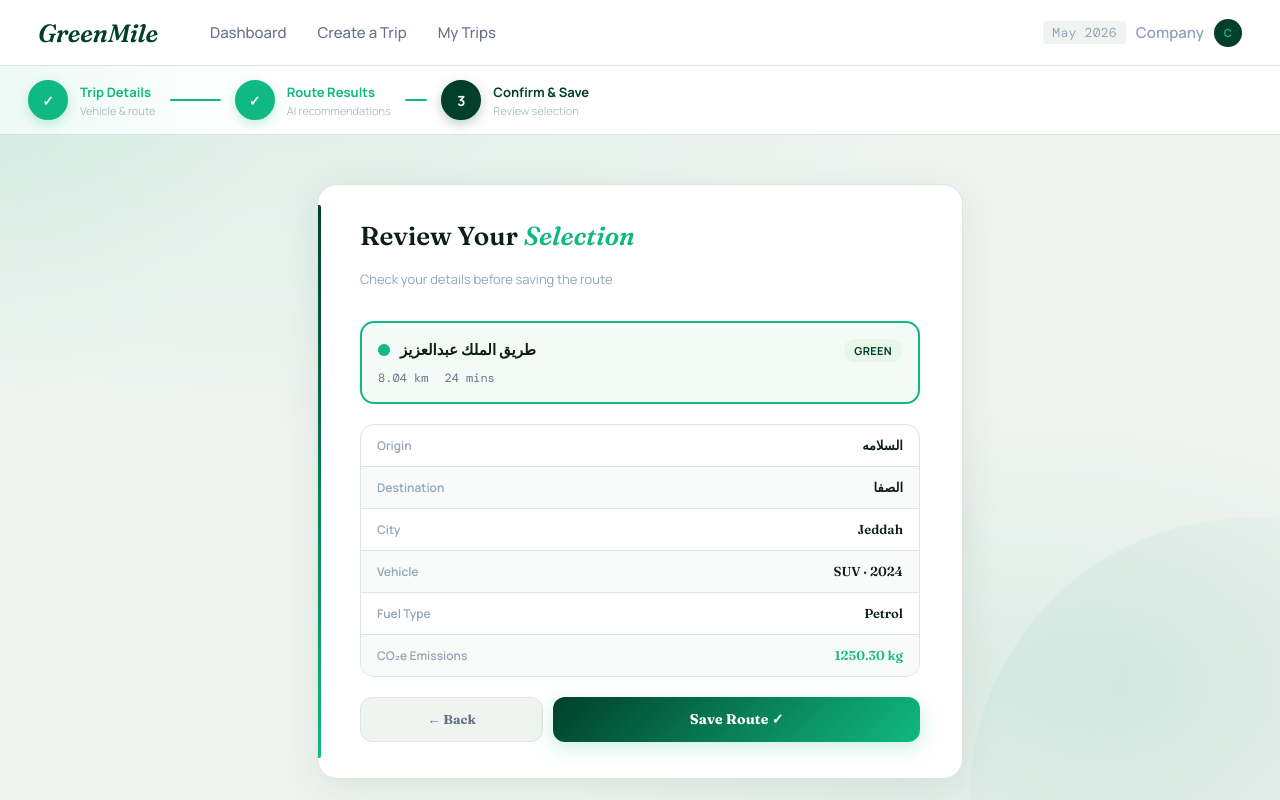
Test: ConfirmScreen — Save: Happy Path › shows Saving... while in progress
Click the button "Save Route ✓". click: (737, 719)
box: [553, 697, 920, 742]
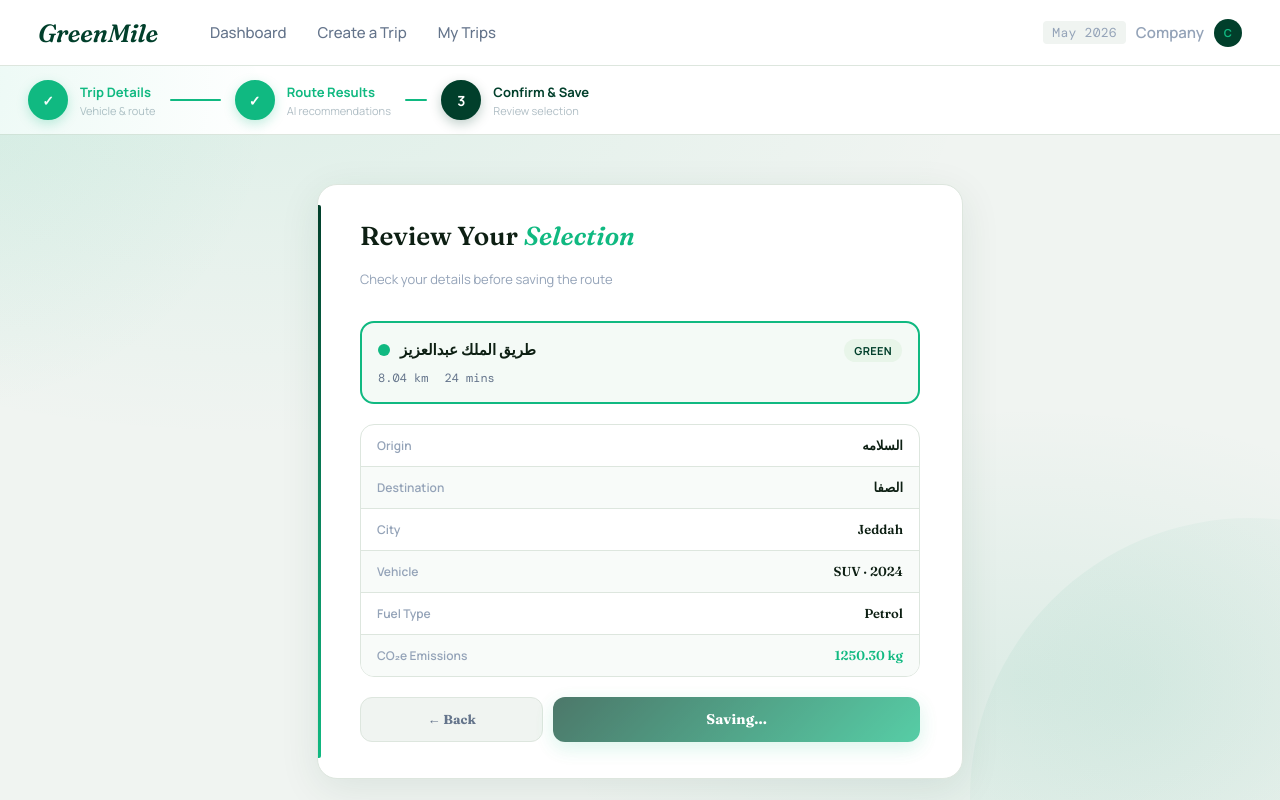
Expected: the button "Saving..." is shown, [553, 697, 920, 742]
